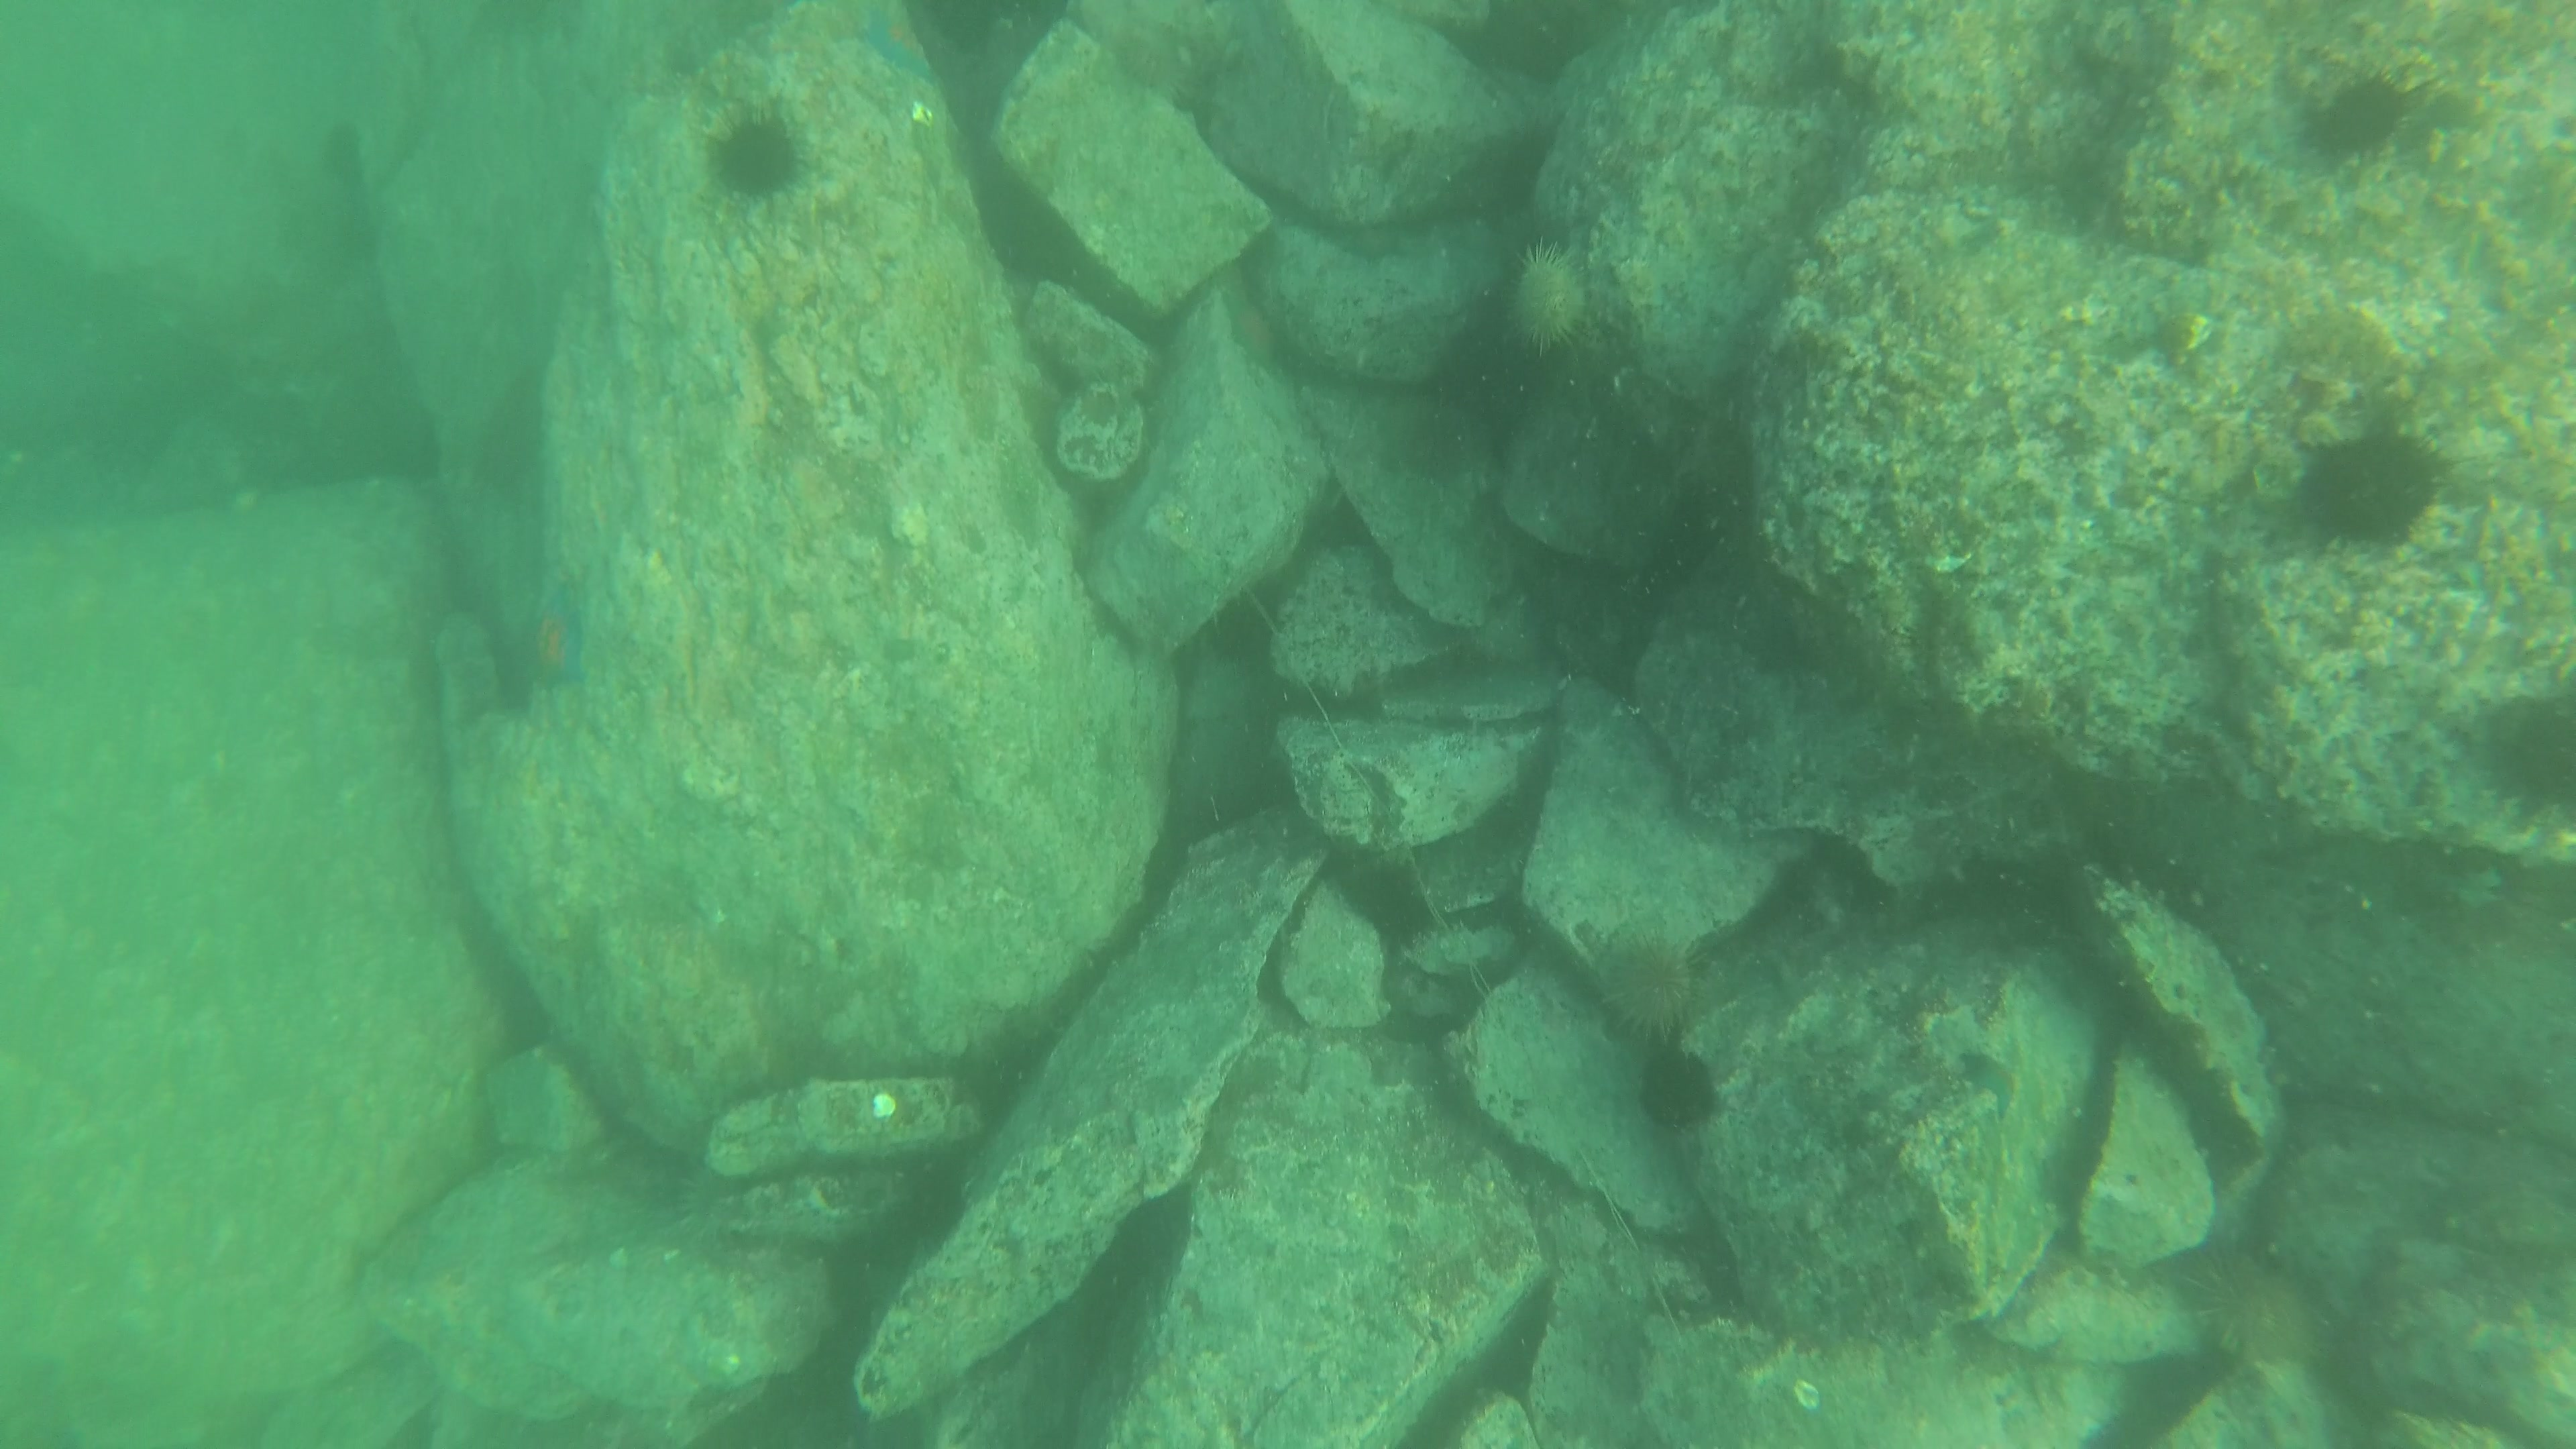echinus: (2289, 423, 2436, 550), (2192, 1258, 2334, 1371), (2486, 683, 2576, 810), (1601, 934, 1709, 1035), (1507, 235, 1601, 349), (697, 104, 809, 198), (2321, 62, 2411, 166), (1345, 858, 1444, 941), (1626, 1051, 1723, 1125)
starfish: (502, 605, 598, 695), (853, 4, 950, 74)
